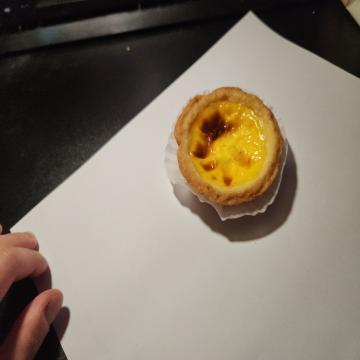EggTart: (174, 86, 281, 206)
